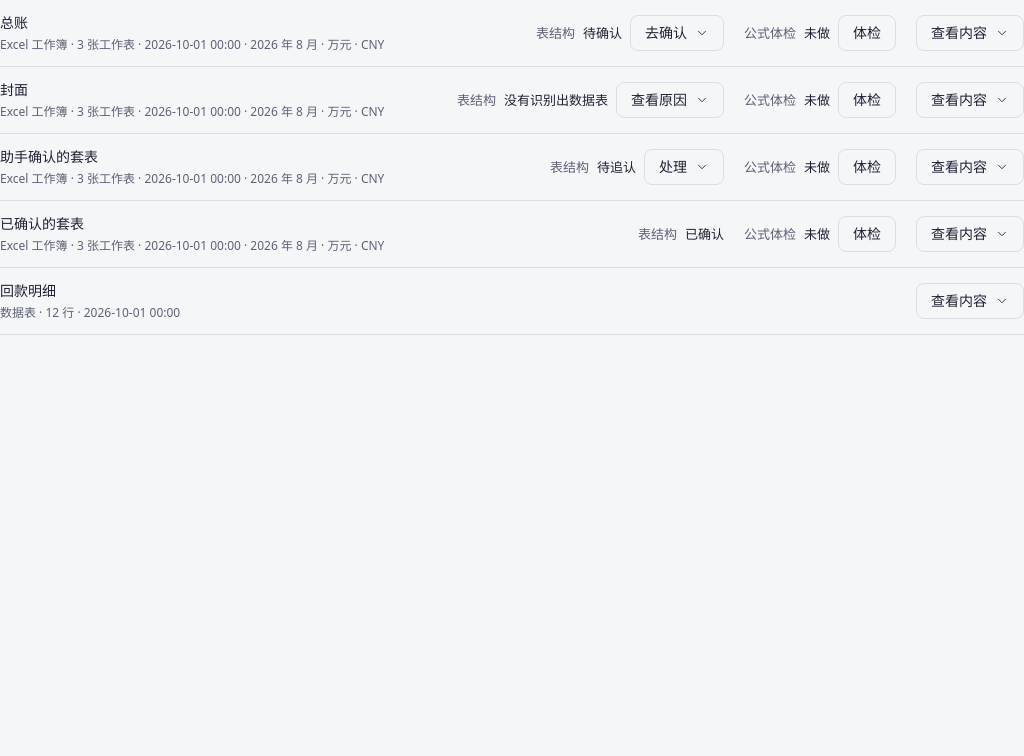
the 资料 file list › says what each table structure waits on, with one action name per file, and opens the form under its own row
Expected: the text "待确认" is shown, [583,23,622,43]
Expected: the text "没有识别出数据表" is shown, [504,90,608,110]
Click the button "去确认" at coordinates (677, 33), box [630,15,724,51]
(page scrolled)
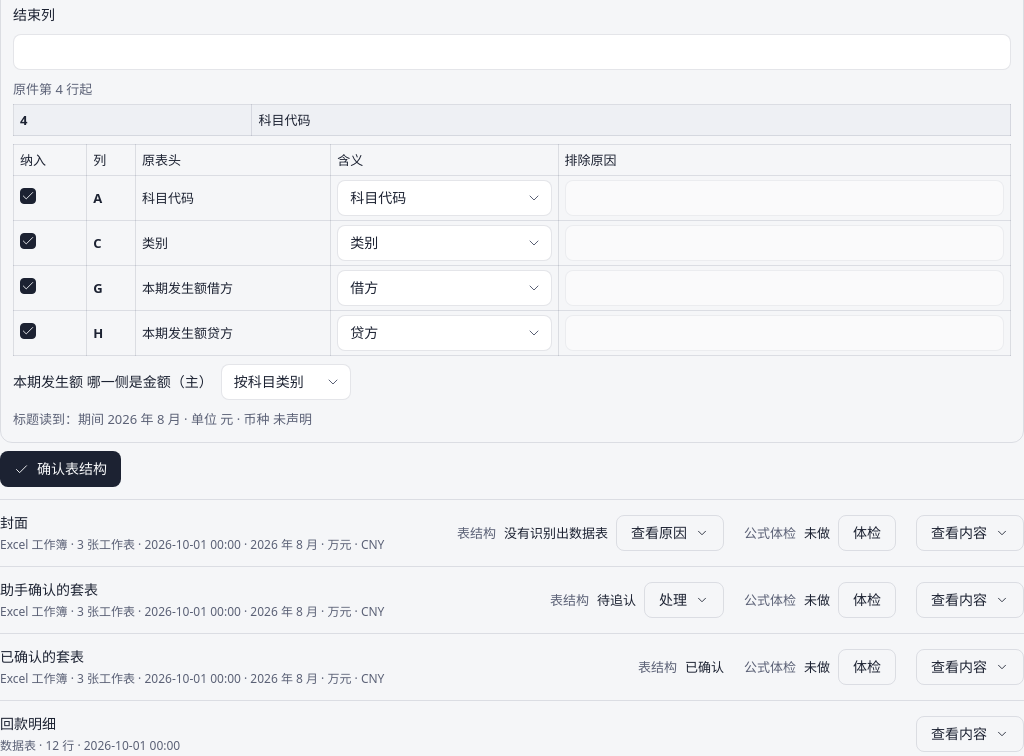
Expected: the button "确认表结构" is shown, [0,451,121,487]
Click the button with aria-label "处理表结构追认：助手确认的套表" at coordinates (684, 600), box [644,582,724,618]
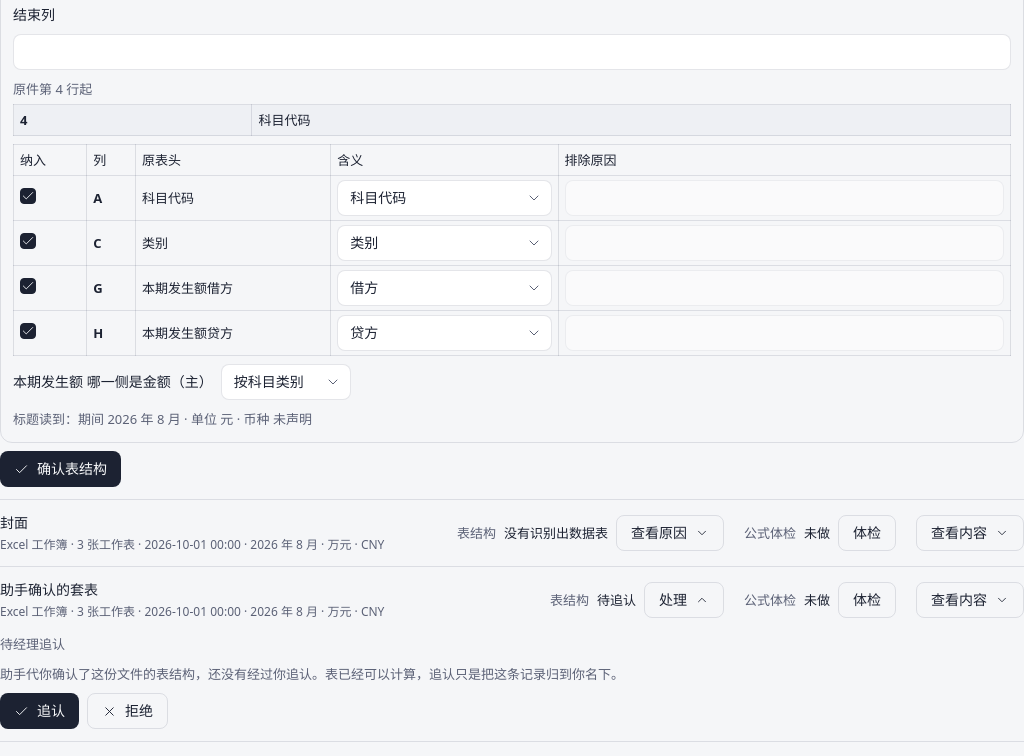
Expected: the button "追认" is shown, [0,694,79,730]
